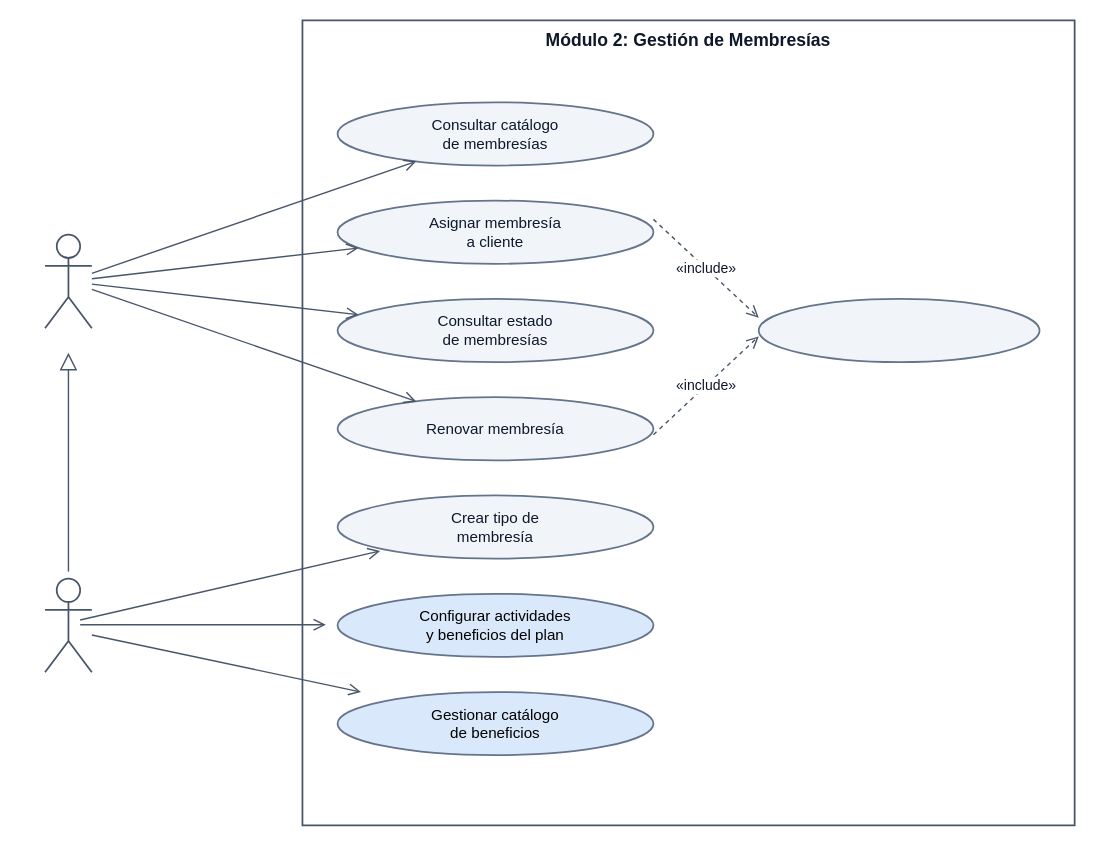
The diagram is 1096 pixels wide and 847 high, and some of its shapes have lost their labels. Here are the shapes that lost their labels. From the top down, the box of each, then its label:
(44, 233, 92, 329): Recepcionista
(757, 298, 1040, 362): Calcular fecha de vencimiento
(44, 577, 92, 673): Administrador
